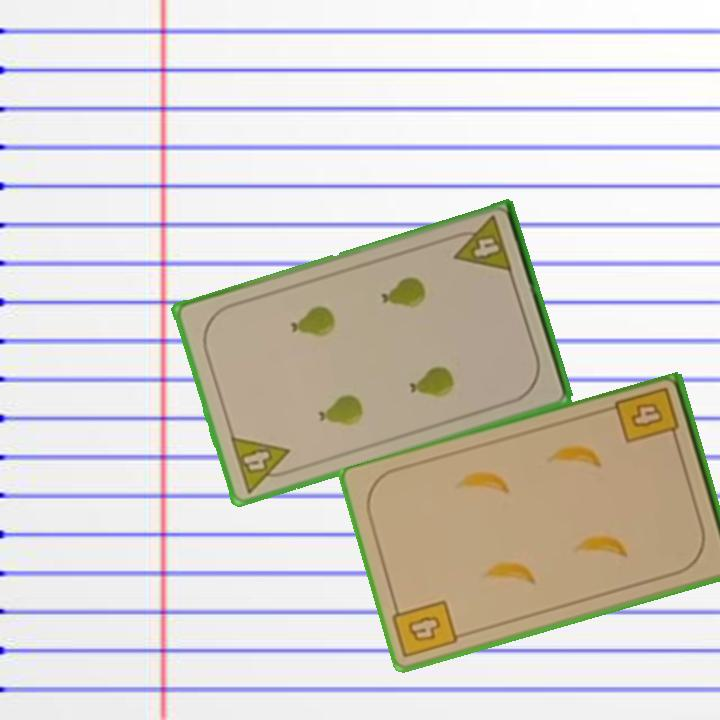4b: (612, 384, 683, 449), (389, 597, 461, 661)
4p: (226, 432, 298, 496), (446, 213, 515, 276)
